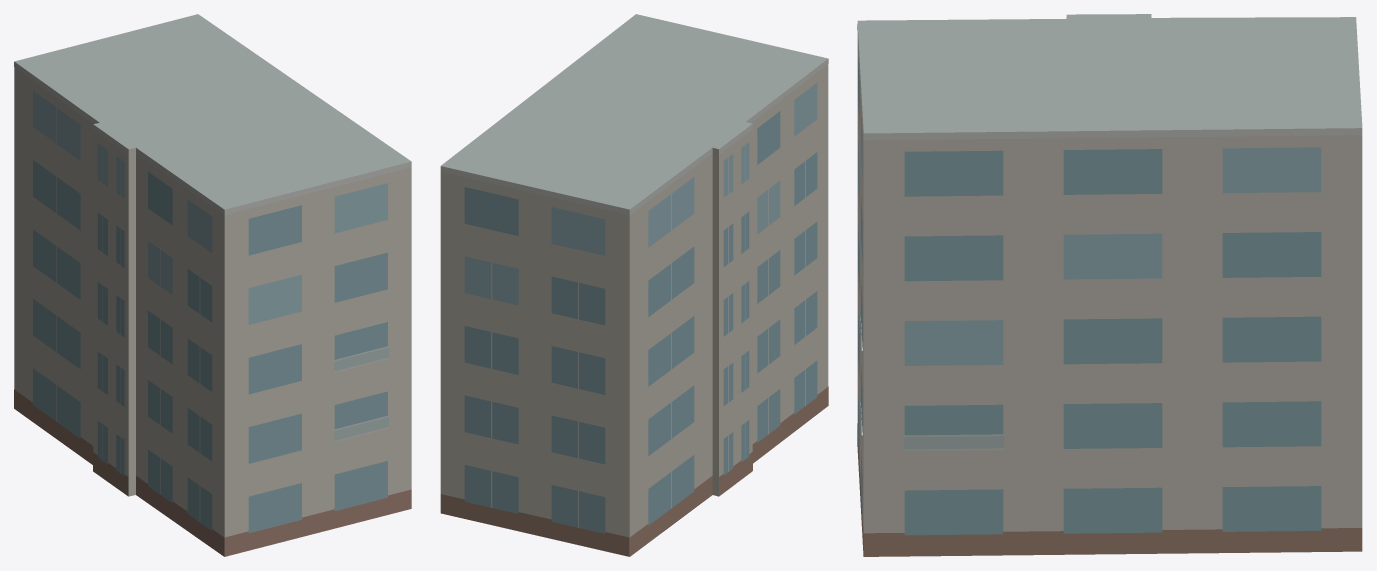
File: survey-upis-32611682.glb
3 views of the same model, side by side, from view 1: azimuth 30°, elevation 25°; view 2: azimuth 150°, elevation 25°; view 3: azimuth 270°, elevation 25° (orthographic). The views are drawn at different scales.
Parts seen in each view (by area): view 1: survey-upis-32611682.tmp; view 2: survey-upis-32611682.tmp; view 3: survey-upis-32611682.tmp.
Boxes of the visible parts, x1,y1,x2,y2 form: survey-upis-32611682.tmp: (14,14,411,556); survey-upis-32611682.tmp: (440,14,828,556); survey-upis-32611682.tmp: (857,14,1362,556).
Size of the model in its own units: 9.1 by 15.02 by 16.25.
